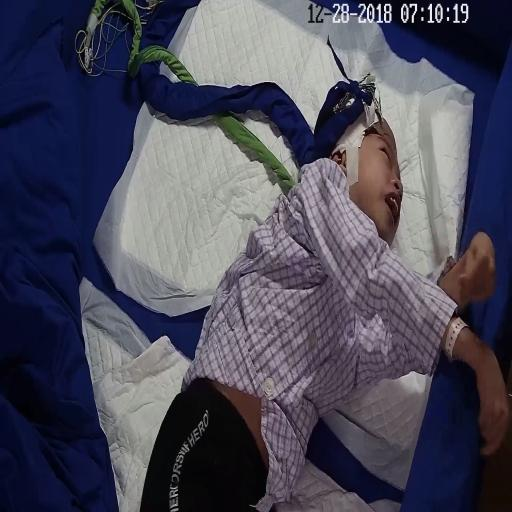Seizure: (332, 105, 406, 226)
